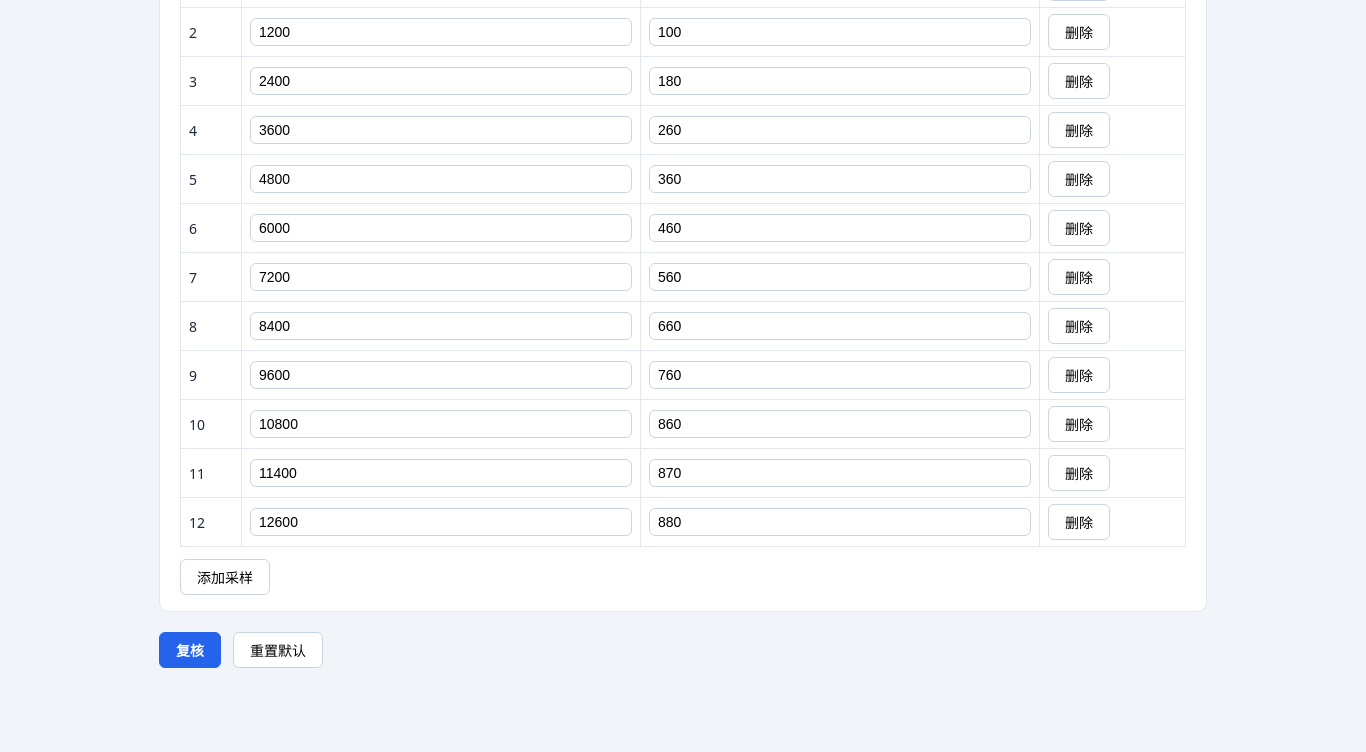
复核台 › 网络失败同样清除旧结果
(page scrolled)
Click the button with test id "adjudicate-button". click: (190, 650)
box: [159,632,221,668]
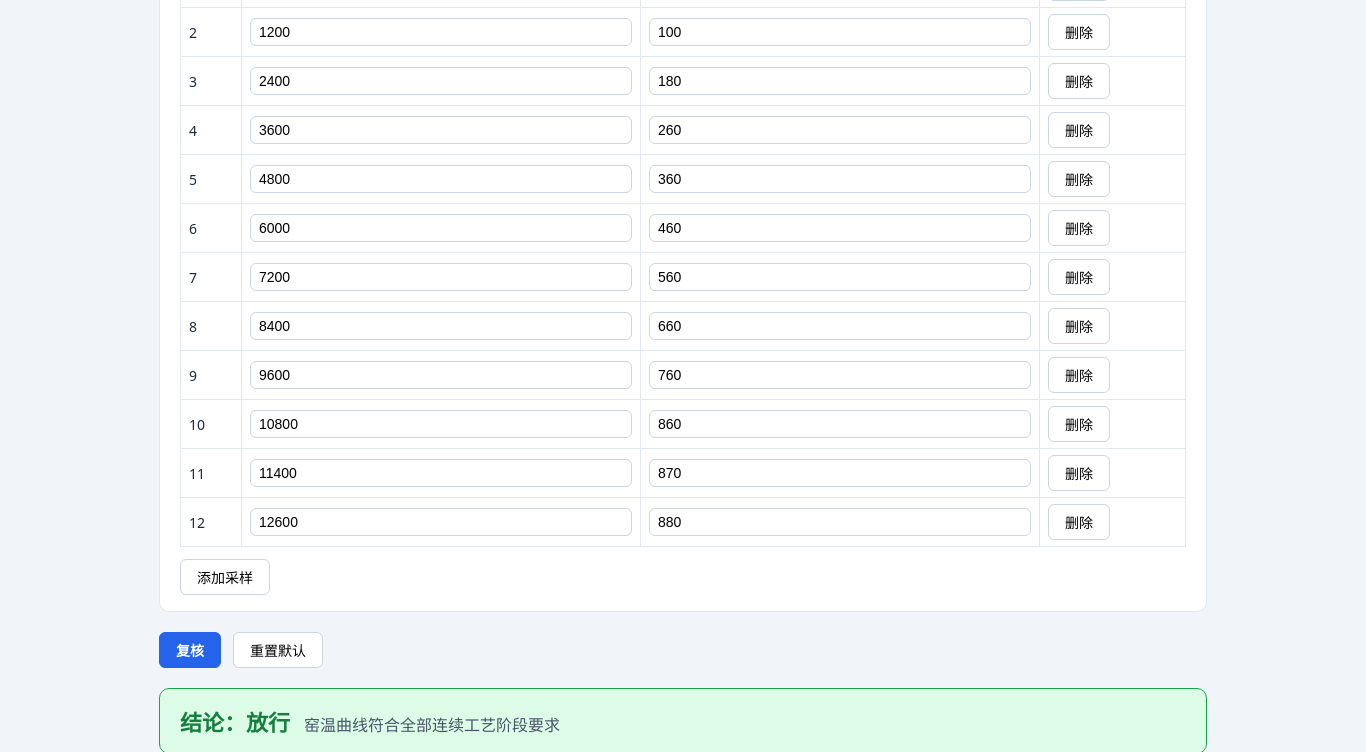
Click the button with test id "adjudicate-button". click: (190, 650)
box: [159,632,221,668]
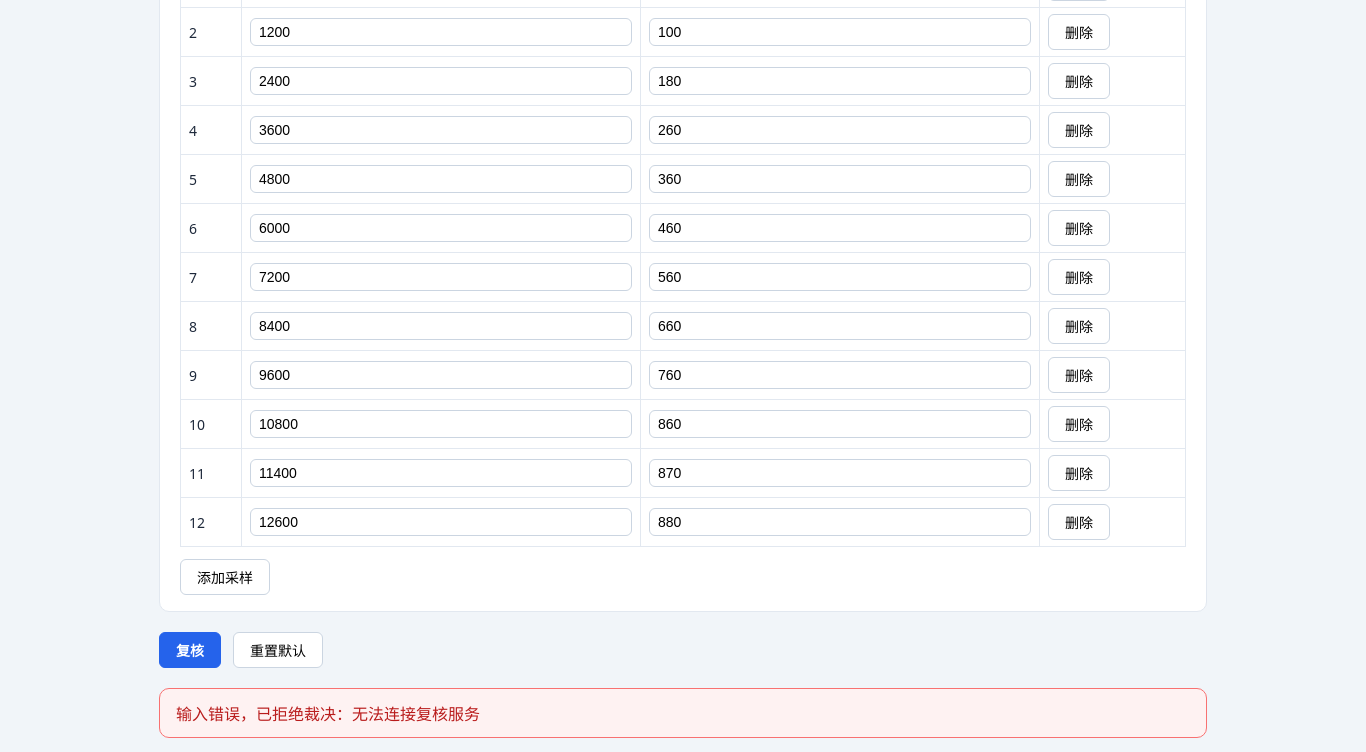
Expected: the message with test id "error-banner" shows "无法连接复核服务", [352,703,480,725]
